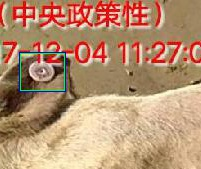text: (20, 53, 64, 90)
